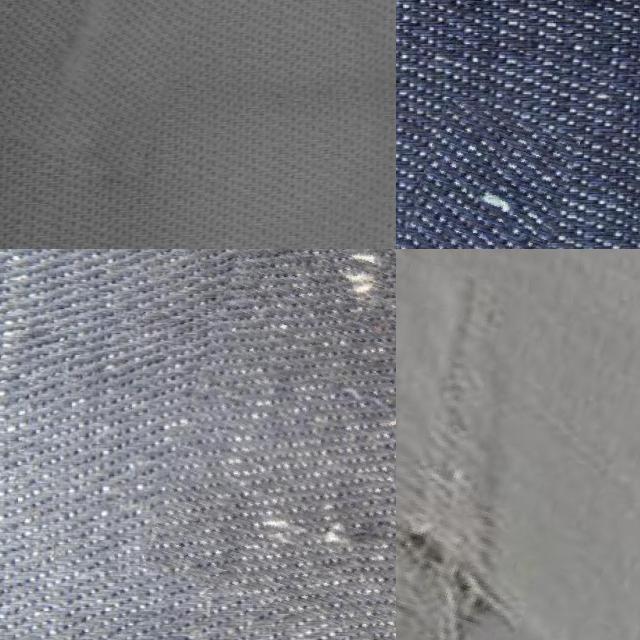Thread_other: (396, 249, 640, 640), (173, 249, 396, 640), (409, 105, 571, 249)
